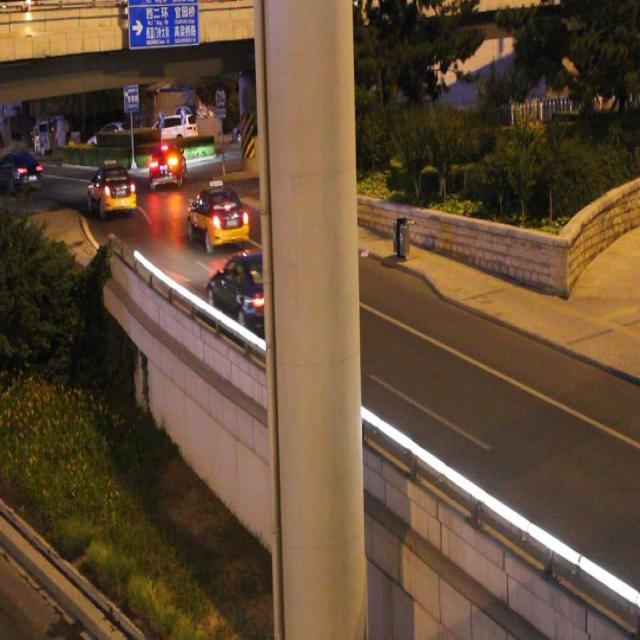car: (206, 246, 297, 344), (187, 180, 249, 249), (88, 158, 136, 216), (149, 142, 188, 188)
